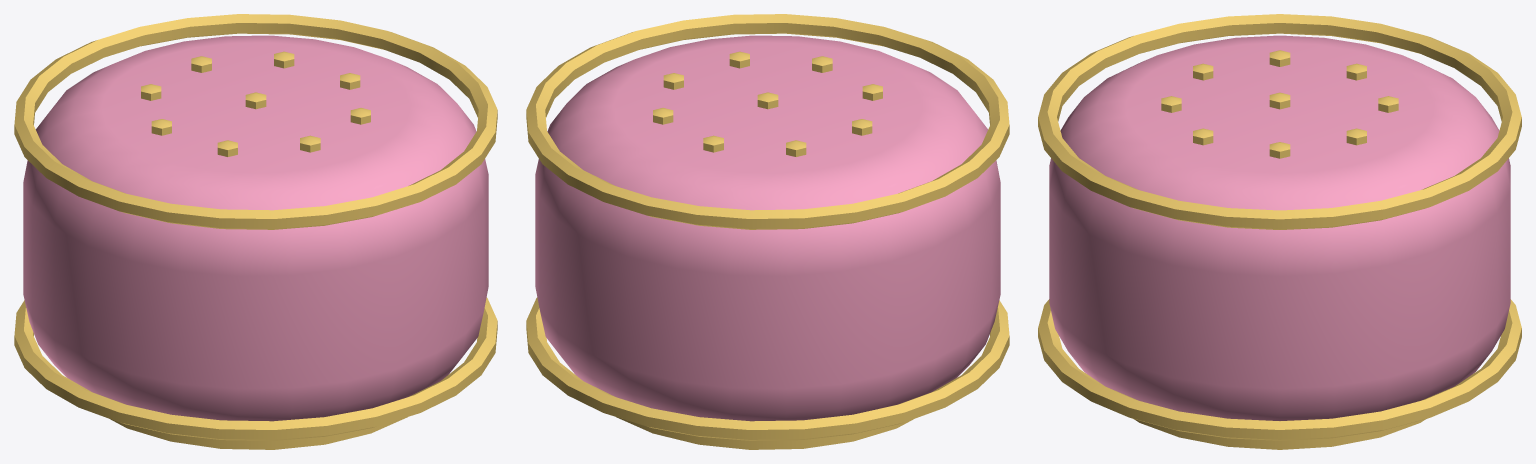
Rendered from pouf_round.glb.
3 views of the same model, side by side, from view 1: azimuth 30°, elevation 25°; view 2: azimuth 150°, elevation 25°; view 3: azimuth 270°, elevation 25° (orthographic).
Parts seen in each view (by area): view 1: pouf_round; view 2: pouf_round; view 3: pouf_round.
Boxes of the visible parts, box(x1,y1,x2,y2) form: pouf_round: box(14, 14, 497, 449); pouf_round: box(526, 14, 1009, 449); pouf_round: box(1038, 14, 1521, 449).
Bounding box in the file's own units: 0.6242 × 0.395 × 0.6242.
